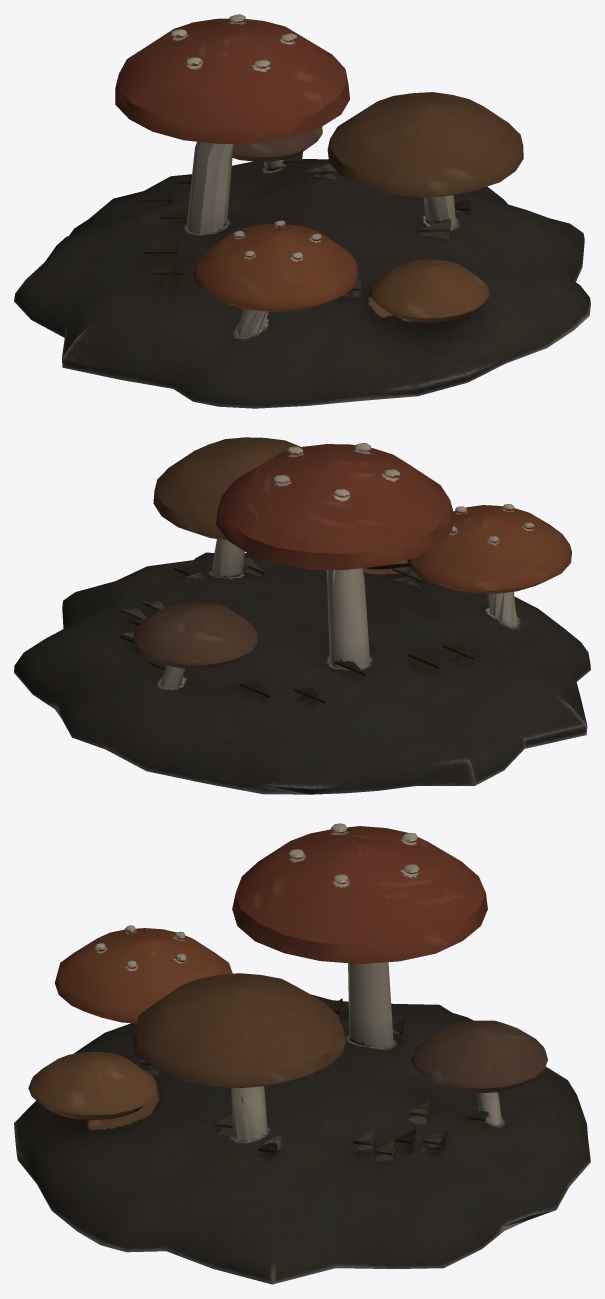
Rendered from mushrooms.glb.
3 views of the same model, one above another, from view 1: azimuth 30°, elevation 25°; view 2: azimuth 150°, elevation 25°; view 3: azimuth 270°, elevation 25° (orthographic). The views are drawn at different scales.
Visible parts, largest first — view 1: mushrooms; view 2: mushrooms; view 3: mushrooms.
Part boxes in pixels (left/top/right/bottom): mushrooms: left=14, top=14, right=590, bottom=408; mushrooms: left=14, top=437, right=590, bottom=794; mushrooms: left=14, top=823, right=590, bottom=1284.
Bounding box in the file's own units: 0.7649 × 0.35 × 0.6711.
1 material, 1 textured.
